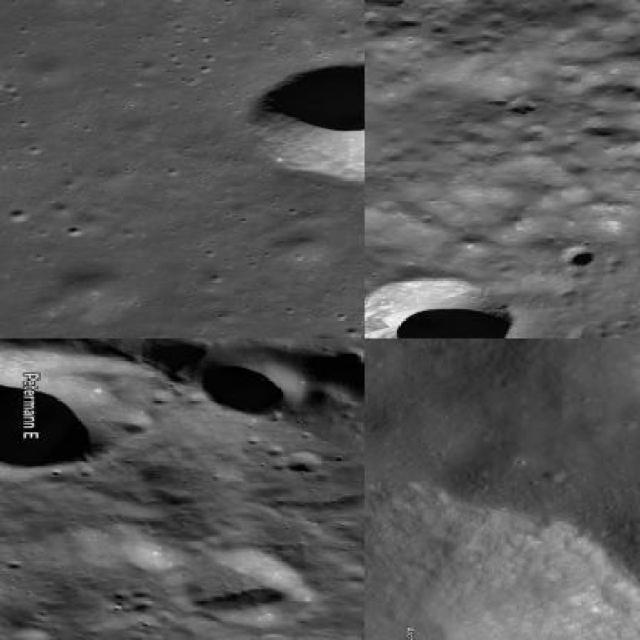crater: (364, 486, 638, 639), (0, 348, 145, 472), (246, 62, 363, 186), (365, 275, 517, 337), (197, 351, 308, 420), (562, 245, 596, 269)
